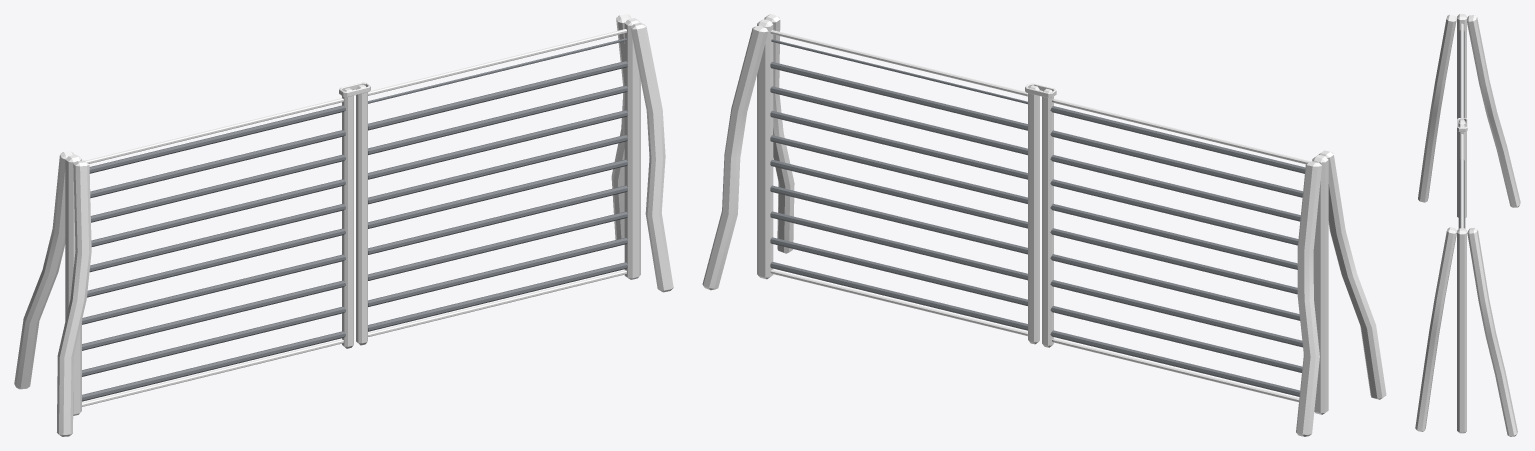
Rendered from valla4.fbx.
3 renders of one model, left to right at view 1: azimuth 30°, elevation 25°; view 2: azimuth 150°, elevation 25°; view 3: azimuth 270°, elevation 25°, orthographic. The views are drawn at different scales.
Visible parts, largest first — view 1: valla4; view 2: valla4; view 3: valla4.
Boxes of the visible parts, box(x1,y1,x2,y2) form: valla4: box(14, 14, 673, 436); valla4: box(702, 14, 1386, 436); valla4: box(1415, 14, 1520, 436).
Size of the model in its own units: 823 by 323 by 152.
